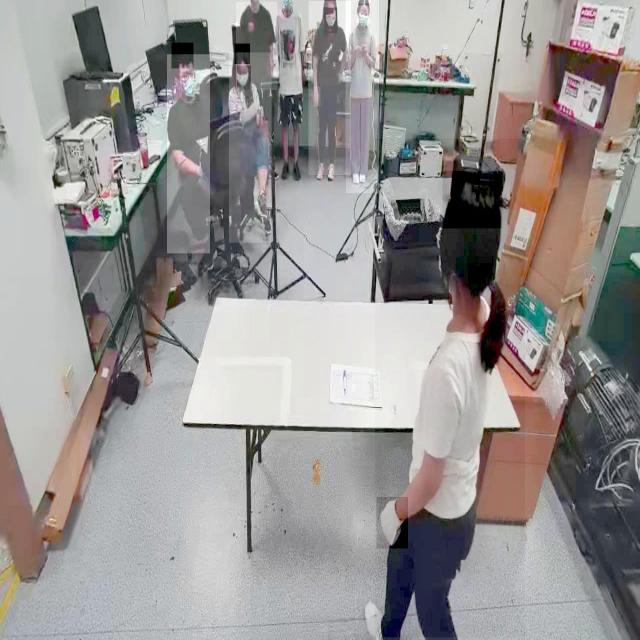face_mask: (182, 73, 200, 102), (324, 8, 338, 33), (237, 66, 251, 90), (356, 5, 369, 24)
hand_glove: (376, 497, 408, 549)
hand_noglove: (313, 86, 321, 108), (362, 42, 370, 58), (354, 42, 362, 58), (302, 66, 308, 87)
head_nohelmet: (442, 171, 502, 229), (171, 43, 193, 69), (234, 43, 250, 65), (323, 0, 337, 8), (358, 0, 371, 4)
person: (375, 139, 525, 638), (166, 54, 210, 254), (228, 52, 272, 244), (308, 1, 351, 176), (272, 0, 311, 181), (345, 0, 379, 194), (235, 1, 278, 90)
shoes: (360, 597, 391, 640), (254, 188, 270, 220), (292, 158, 305, 186), (314, 161, 328, 183), (324, 161, 336, 185), (280, 160, 292, 181), (349, 167, 361, 186), (359, 163, 369, 184)
